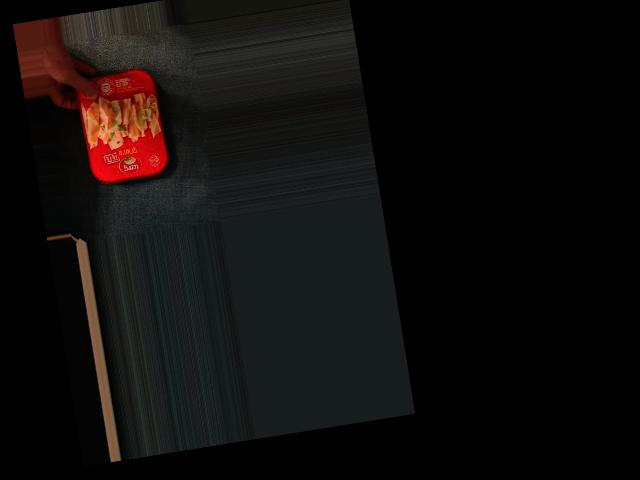cheese: (76, 62, 171, 188)
